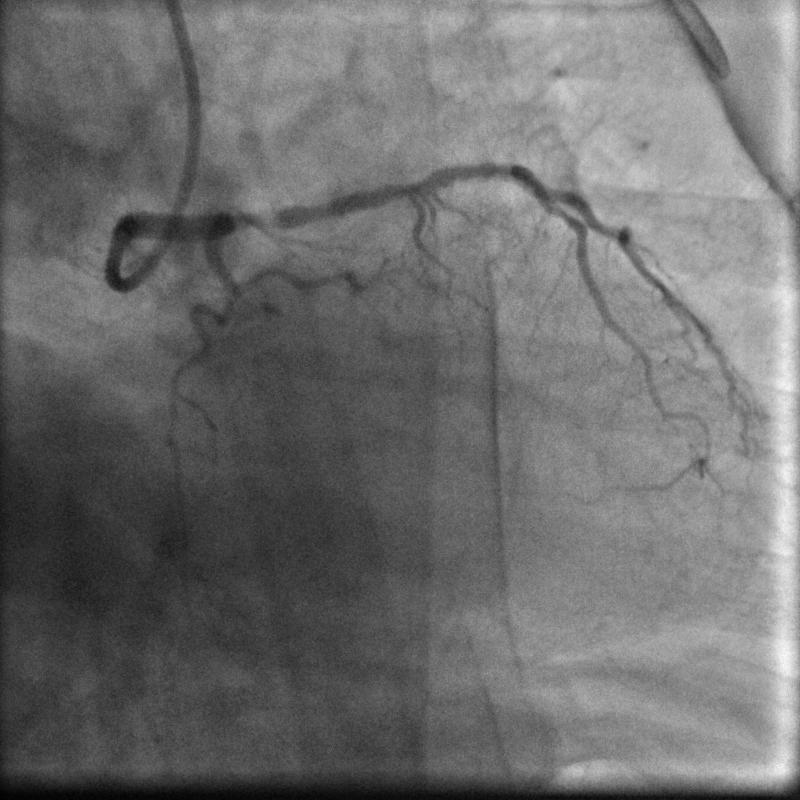Stenosis: (229, 203, 288, 236)
